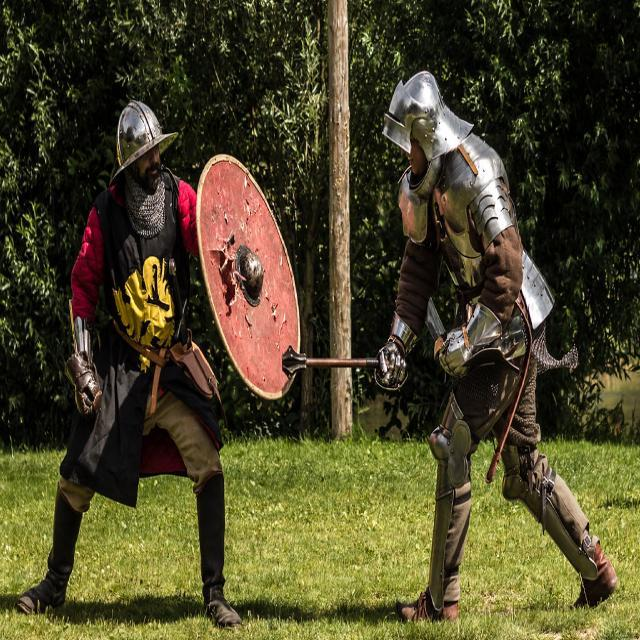mace: (280, 349, 404, 379)
shield: (197, 154, 302, 402)
